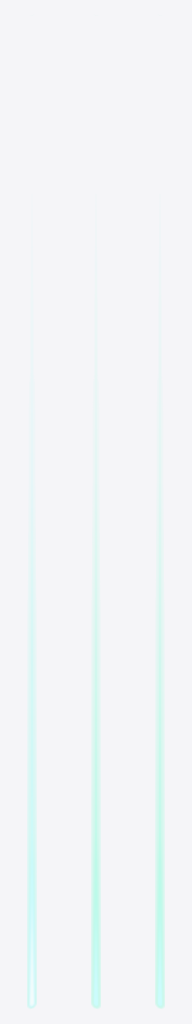
File: 省级现代农业产业园.gltf
The picture shows the model from 3 angles, left to right: view 1: azimuth 30°, elevation 25°; view 2: azimuth 150°, elevation 25°; view 3: azimuth 330°, elevation 25°; orthographic projection.
Visible parts, largest first — view 1: 线; view 2: 线; view 3: 线.
Part boxes in pixels (bbox=[...]): 线: bbox=[27, 531, 36, 1007]; 线: bbox=[91, 531, 100, 1007]; 线: bbox=[155, 532, 164, 1007].
Size of what is drawn, in the model's own units: 4 by 390 by 0.
Materials: 1 (1 with a texture image).
